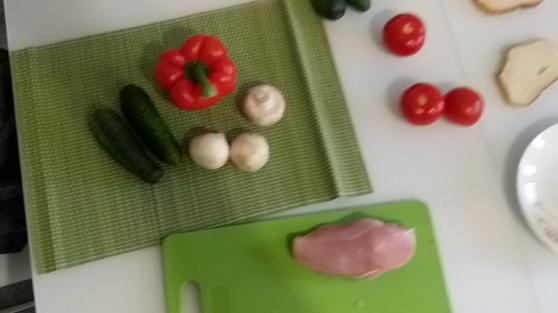champignon: (242, 77, 289, 128), (192, 126, 231, 172), (232, 130, 271, 176)
chicken_fillet: (288, 209, 424, 285)
cucumber: (89, 103, 164, 184), (120, 81, 185, 169)
pepper: (163, 35, 238, 110)
tomato: (378, 10, 428, 56), (400, 78, 446, 123), (445, 76, 484, 123)
white_bread: (490, 33, 558, 111)
